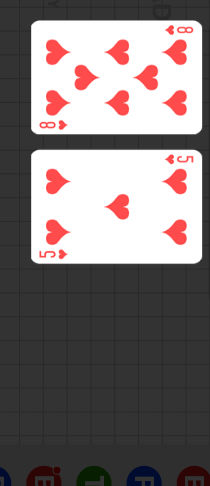5H: (38, 248, 69, 260)
8H: (38, 118, 70, 132)
